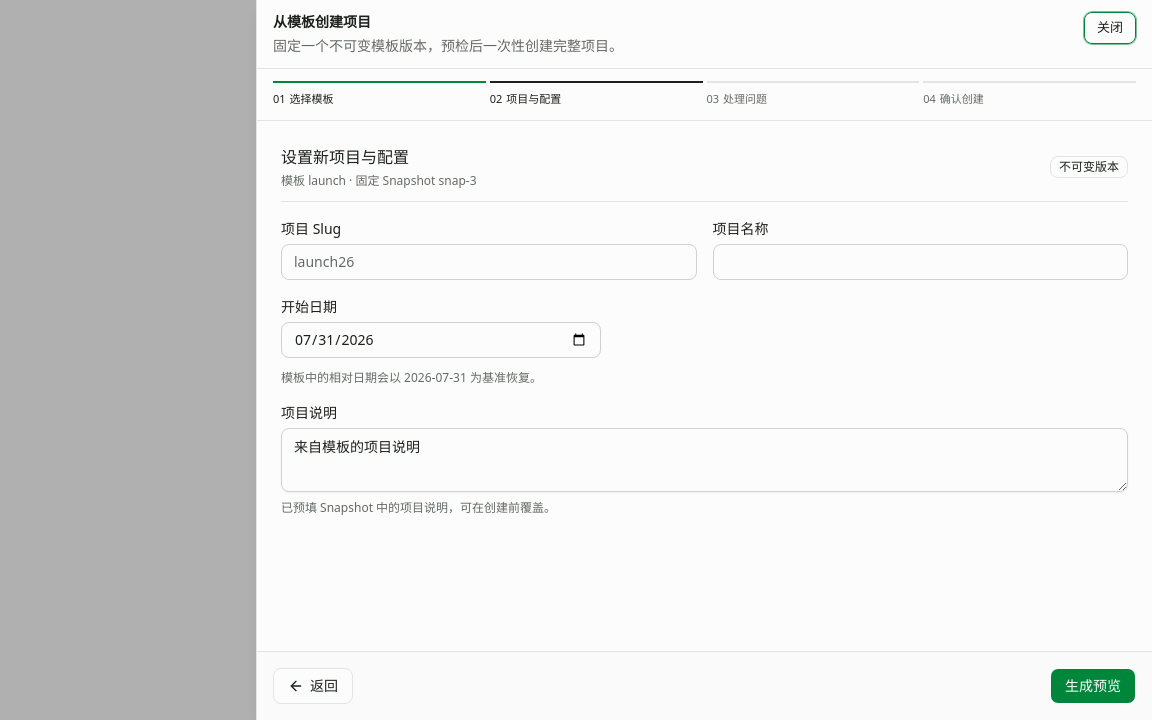
Scenario: ProjectTemplateInstantiateWizard › only offers preview-reported members for replacement or removal
expect the text box labelled "项目说明" holds "来自模板的项目说明": met, box left=281, top=428, right=1128, bottom=492
Type "newproj" into the field labelled "项目 Slug".
click(489, 262); type("newproj")  # box left=281, top=244, right=696, bottom=280
Type "新项目" into the field labelled "项目名称".
click(920, 262); type("新项目")  # box left=712, top=244, right=1128, bottom=280
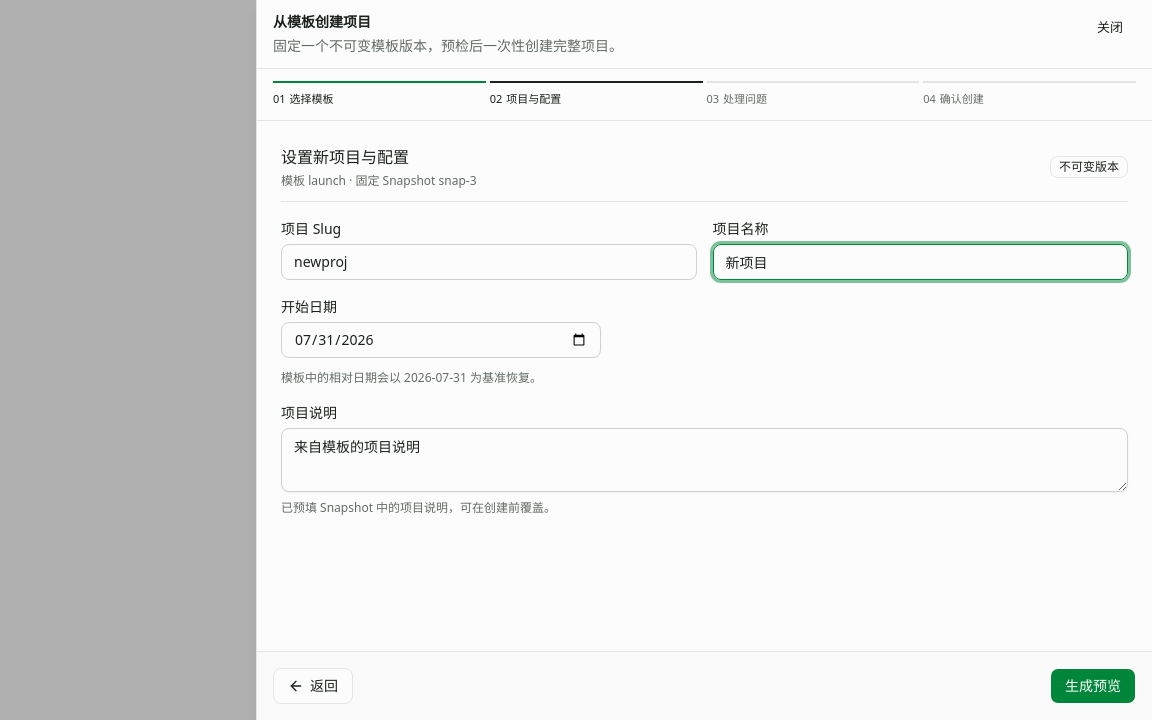
Type "2026-08-01" into the date field labelled "开始日期".
click(441, 340); type("2026-08-01")  # box left=281, top=322, right=601, bottom=358
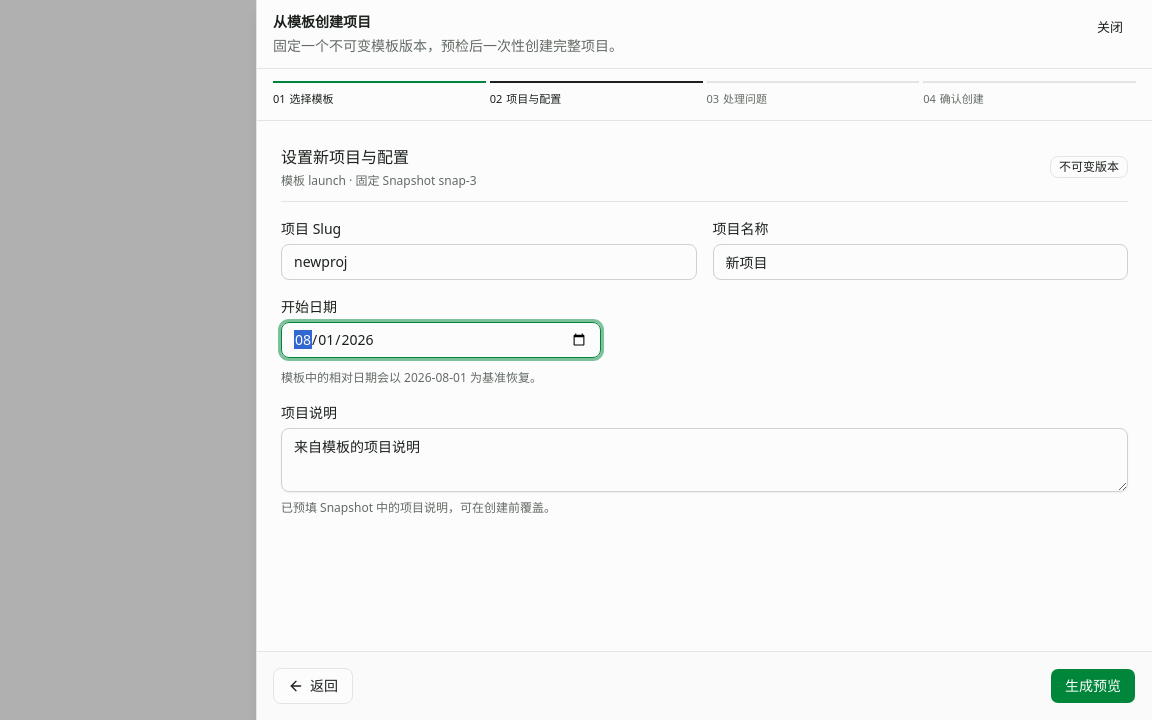
Click the button "生成预览".
click(1093, 686)  # box left=1050, top=668, right=1136, bottom=704
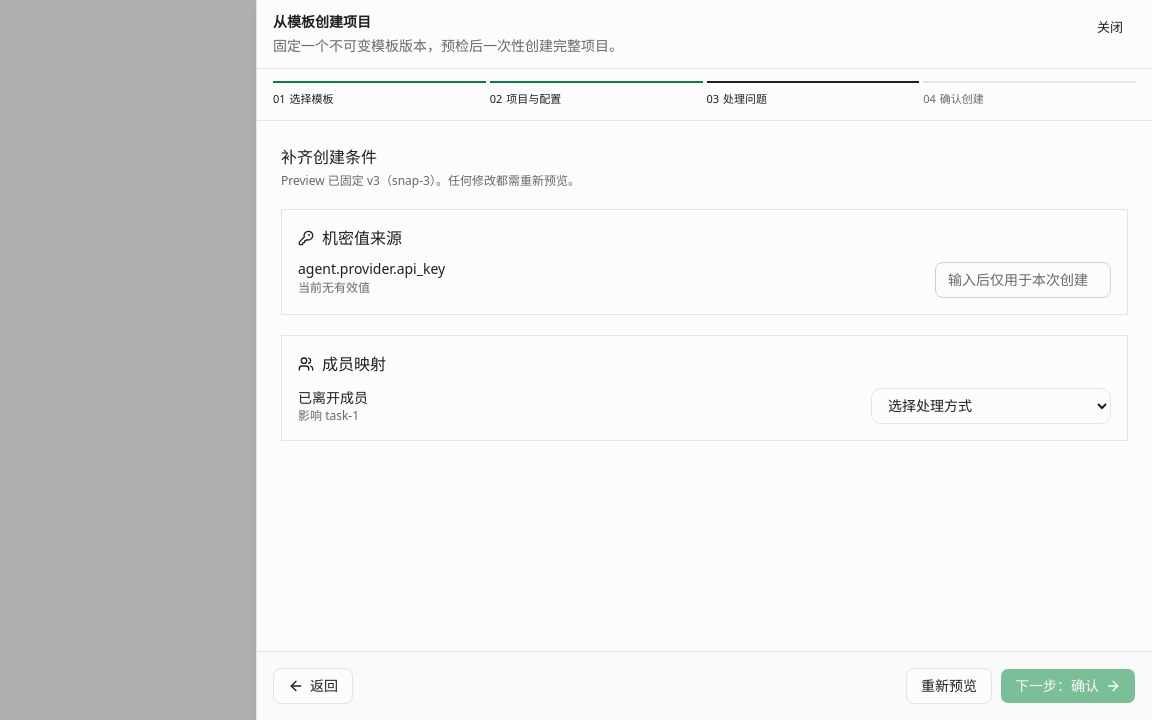
Select "移除指派" in the dropdown named "处理已离开成员" at coordinates (991, 406), box left=871, top=388, right=1111, bottom=424
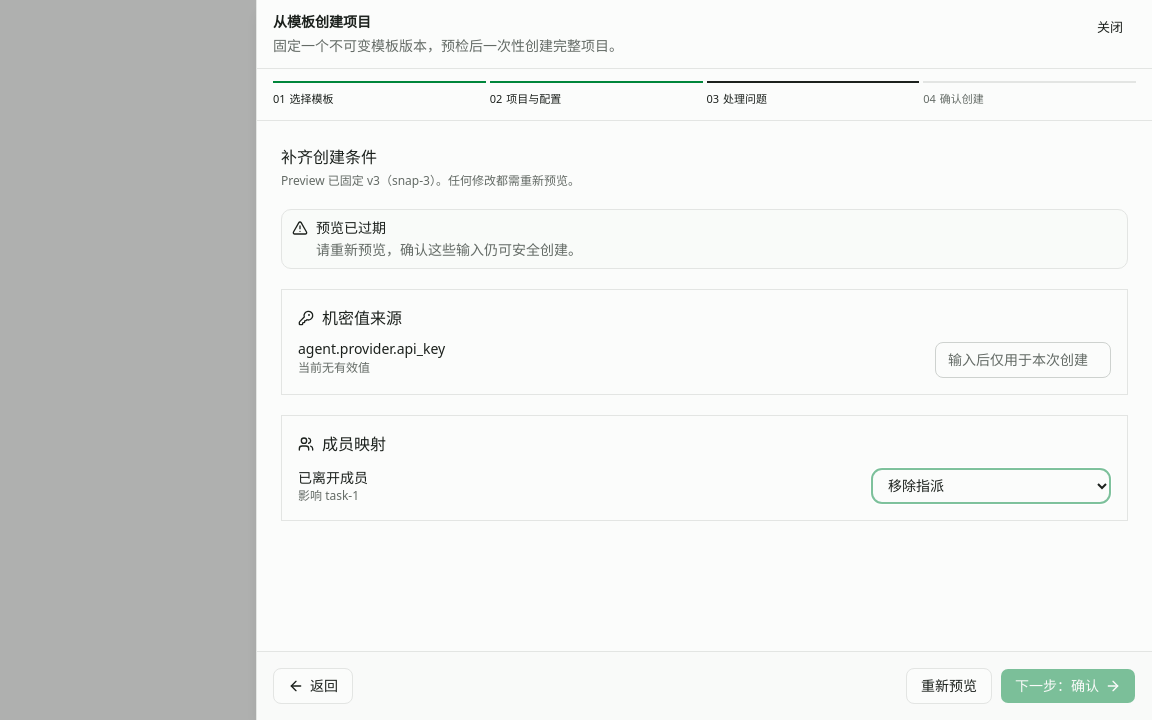
Type "sk-input" into the password field labelled "agent.provider.api_key".
click(1023, 360); type("sk-input")  # box left=935, top=342, right=1111, bottom=378
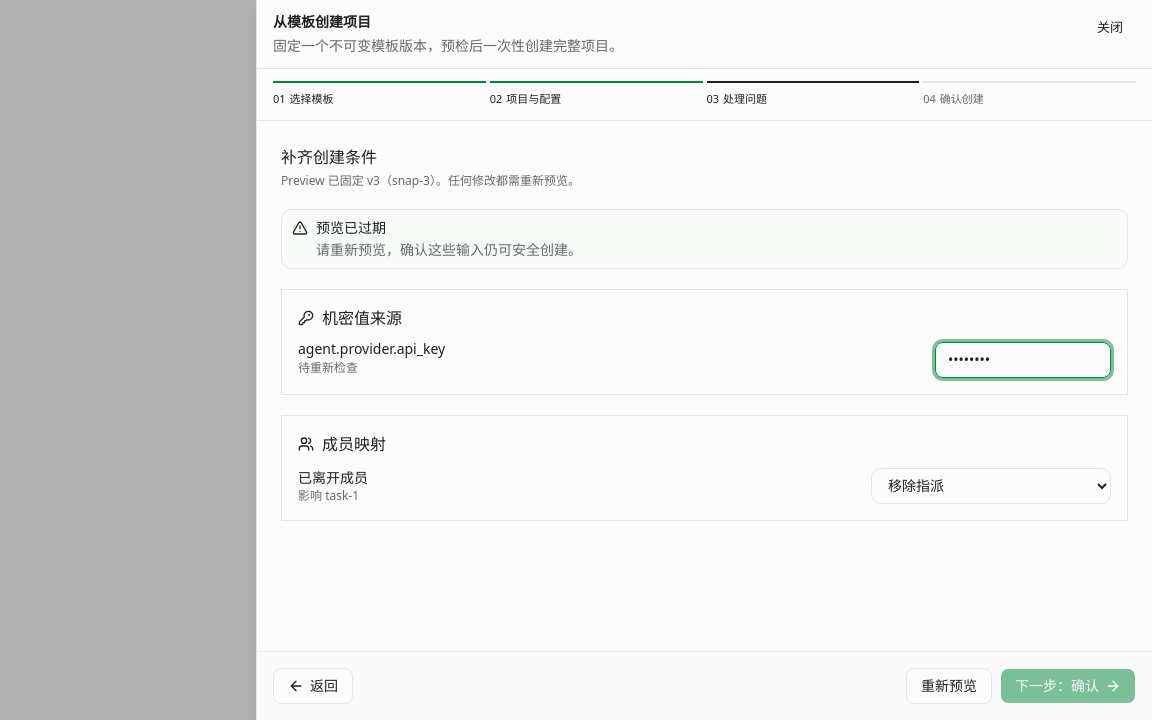
Click the button "重新预览".
click(949, 686)  # box left=906, top=668, right=992, bottom=704
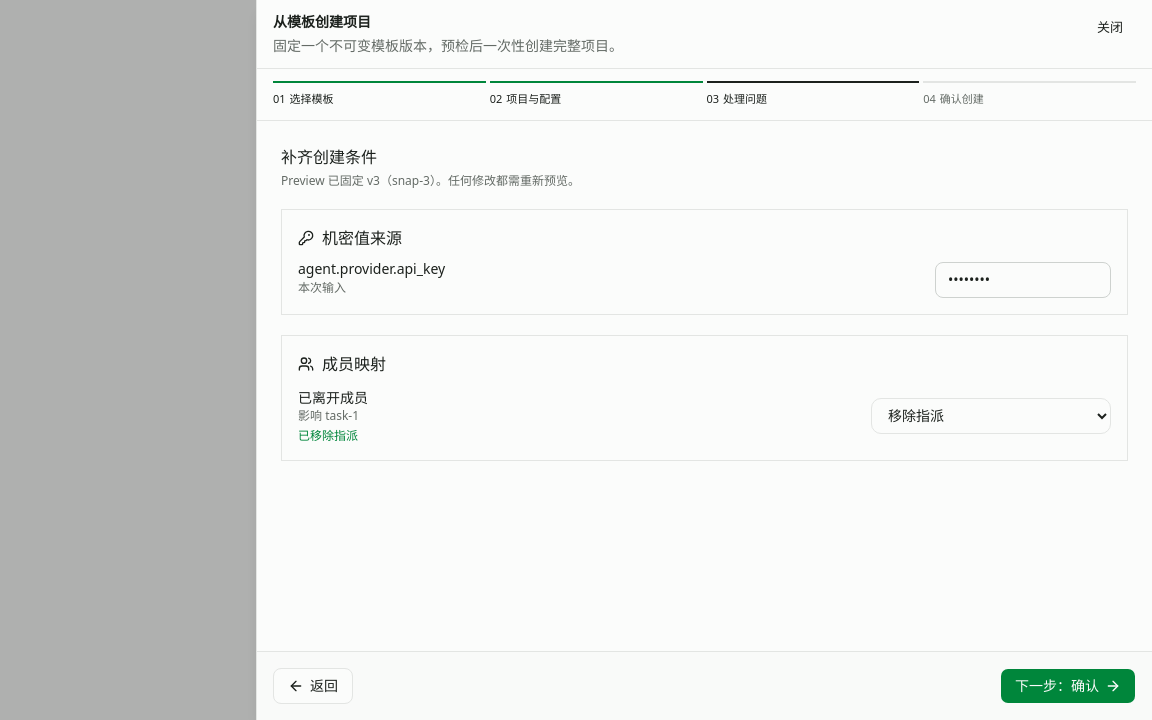
expect the text "已移除指派" is shown: met, box left=298, top=426, right=358, bottom=444
